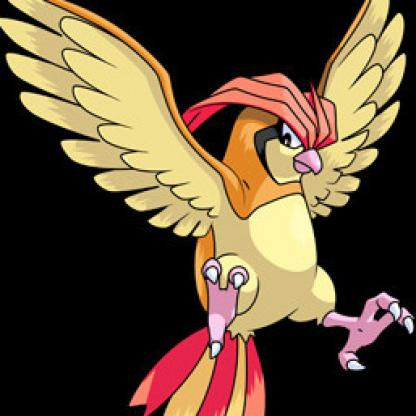Pidgeotto: (1, 1, 416, 416)
